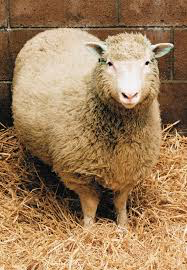koyun: (11, 27, 174, 238)
